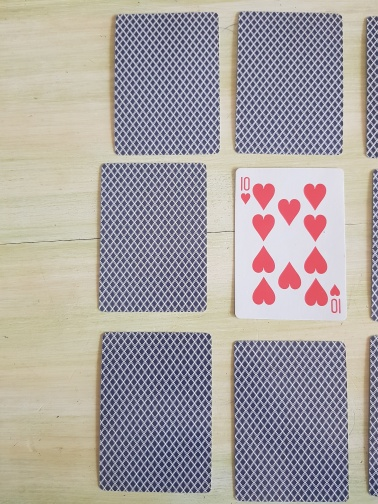ten: (234, 167, 348, 322)
